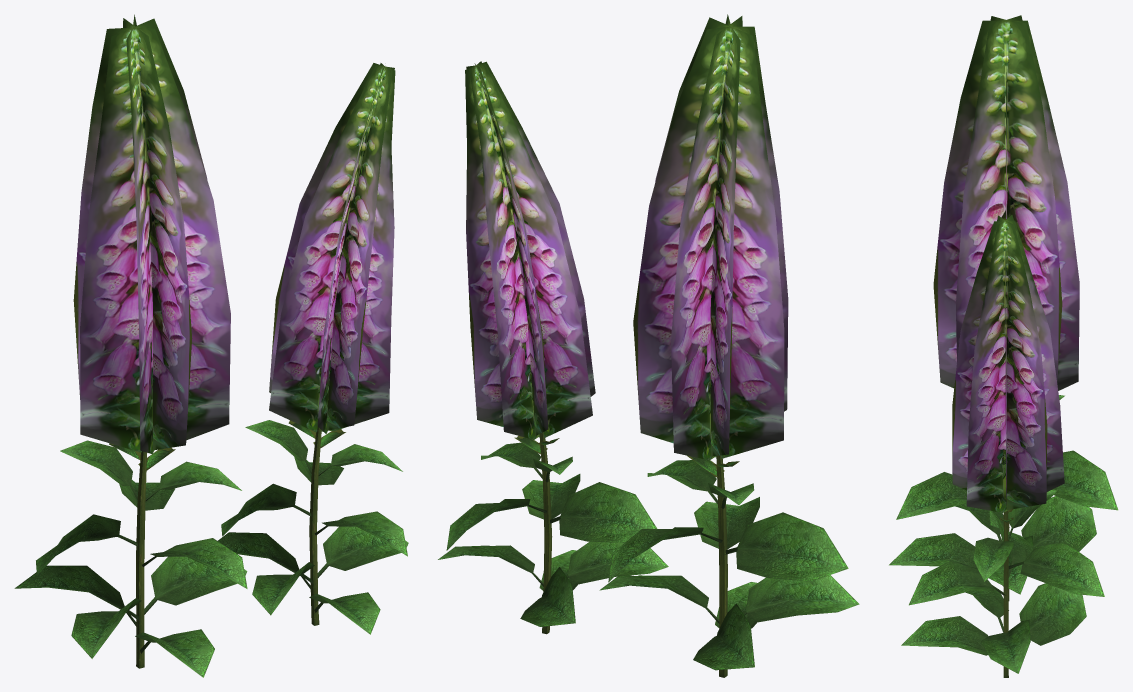
File: Digitalis Pupurea.FBX
3 renders of one model, left to right at view 1: azimuth 30°, elevation 25°; view 2: azimuth 150°, elevation 25°; view 3: azimuth 270°, elevation 25°, orthographic. The views are drawn at different scales.
Parts seen in each view (by area): view 1: Digitalis Pupurea_01, Digitalis Pupurea_02; view 2: Digitalis Pupurea_01, Digitalis Pupurea_02; view 3: Digitalis Pupurea_01, Digitalis Pupurea_02.
Part boxes in pixels (bbox=[...]): Digitalis Pupurea_01: bbox=[14, 14, 247, 677]; Digitalis Pupurea_02: bbox=[218, 63, 408, 634]; Digitalis Pupurea_01: bbox=[599, 14, 859, 677]; Digitalis Pupurea_02: bbox=[438, 61, 668, 634]; Digitalis Pupurea_01: bbox=[889, 15, 1118, 600]; Digitalis Pupurea_02: bbox=[901, 215, 1104, 677].
Size of the model in its own units: 60.44 by 95.91 by 34.45.
